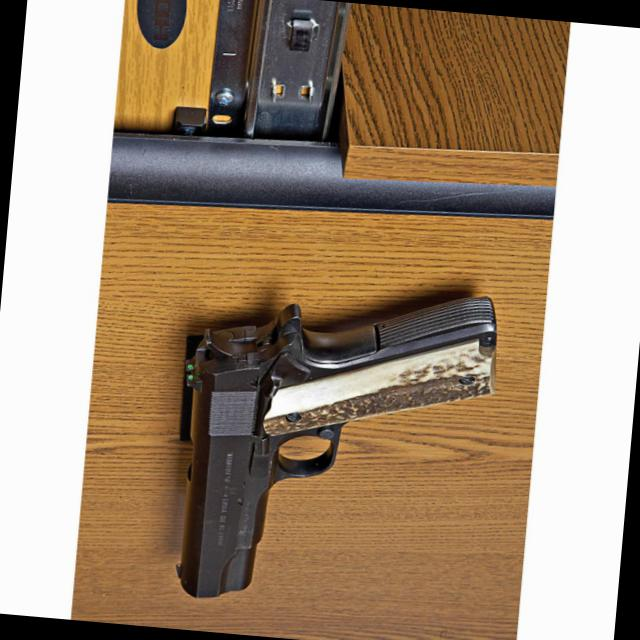handgun: (155, 264, 506, 618)
